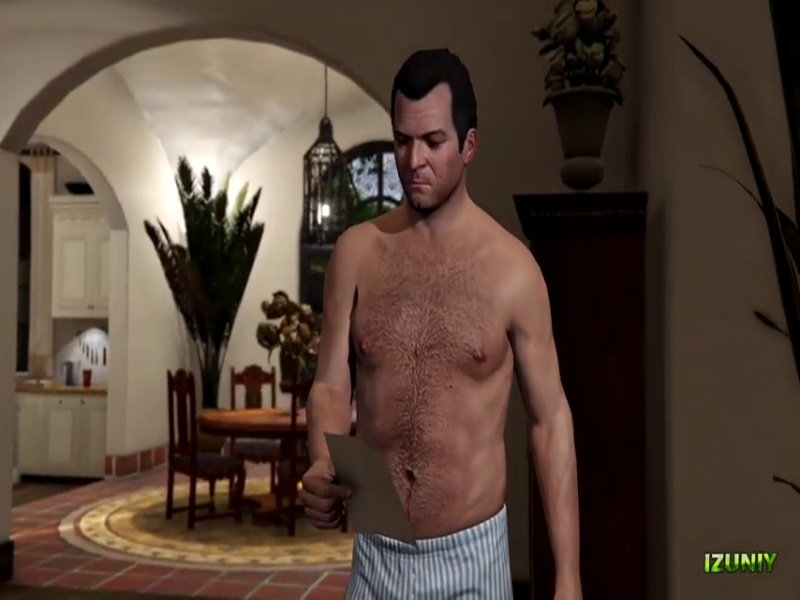human: (303, 59, 577, 594)
